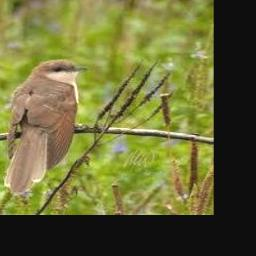Cuckoo: (4, 59, 89, 195)
